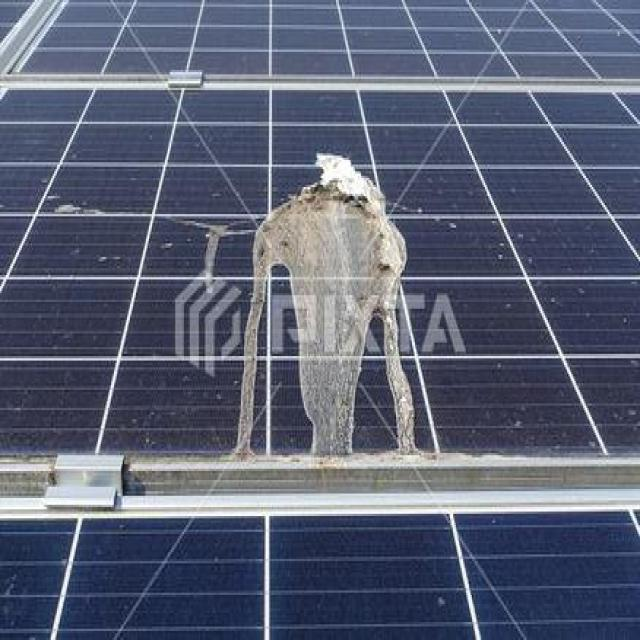soiled: (1, 76, 640, 458)
